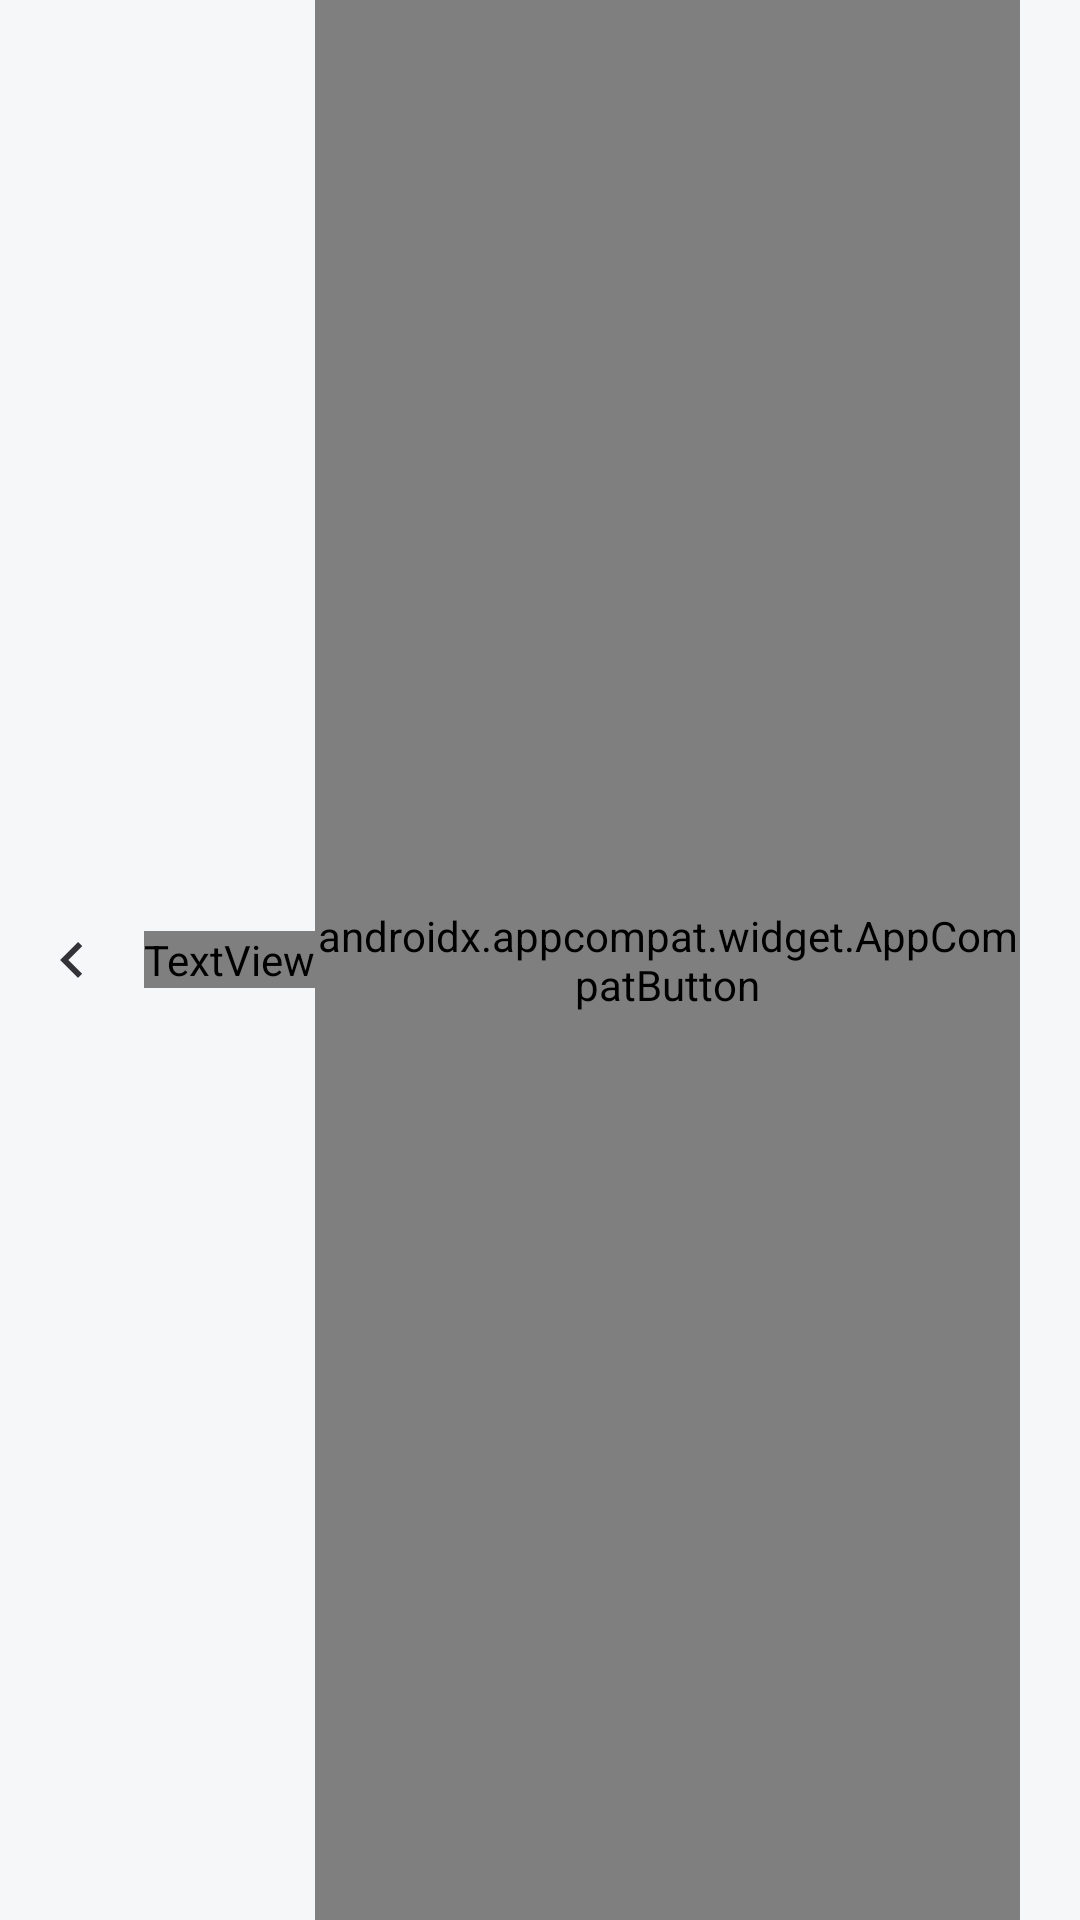

Point at icon controls on the screen. Image size 1080w x 1920h, points as [x,y].
뒤로가기: [71,960]
